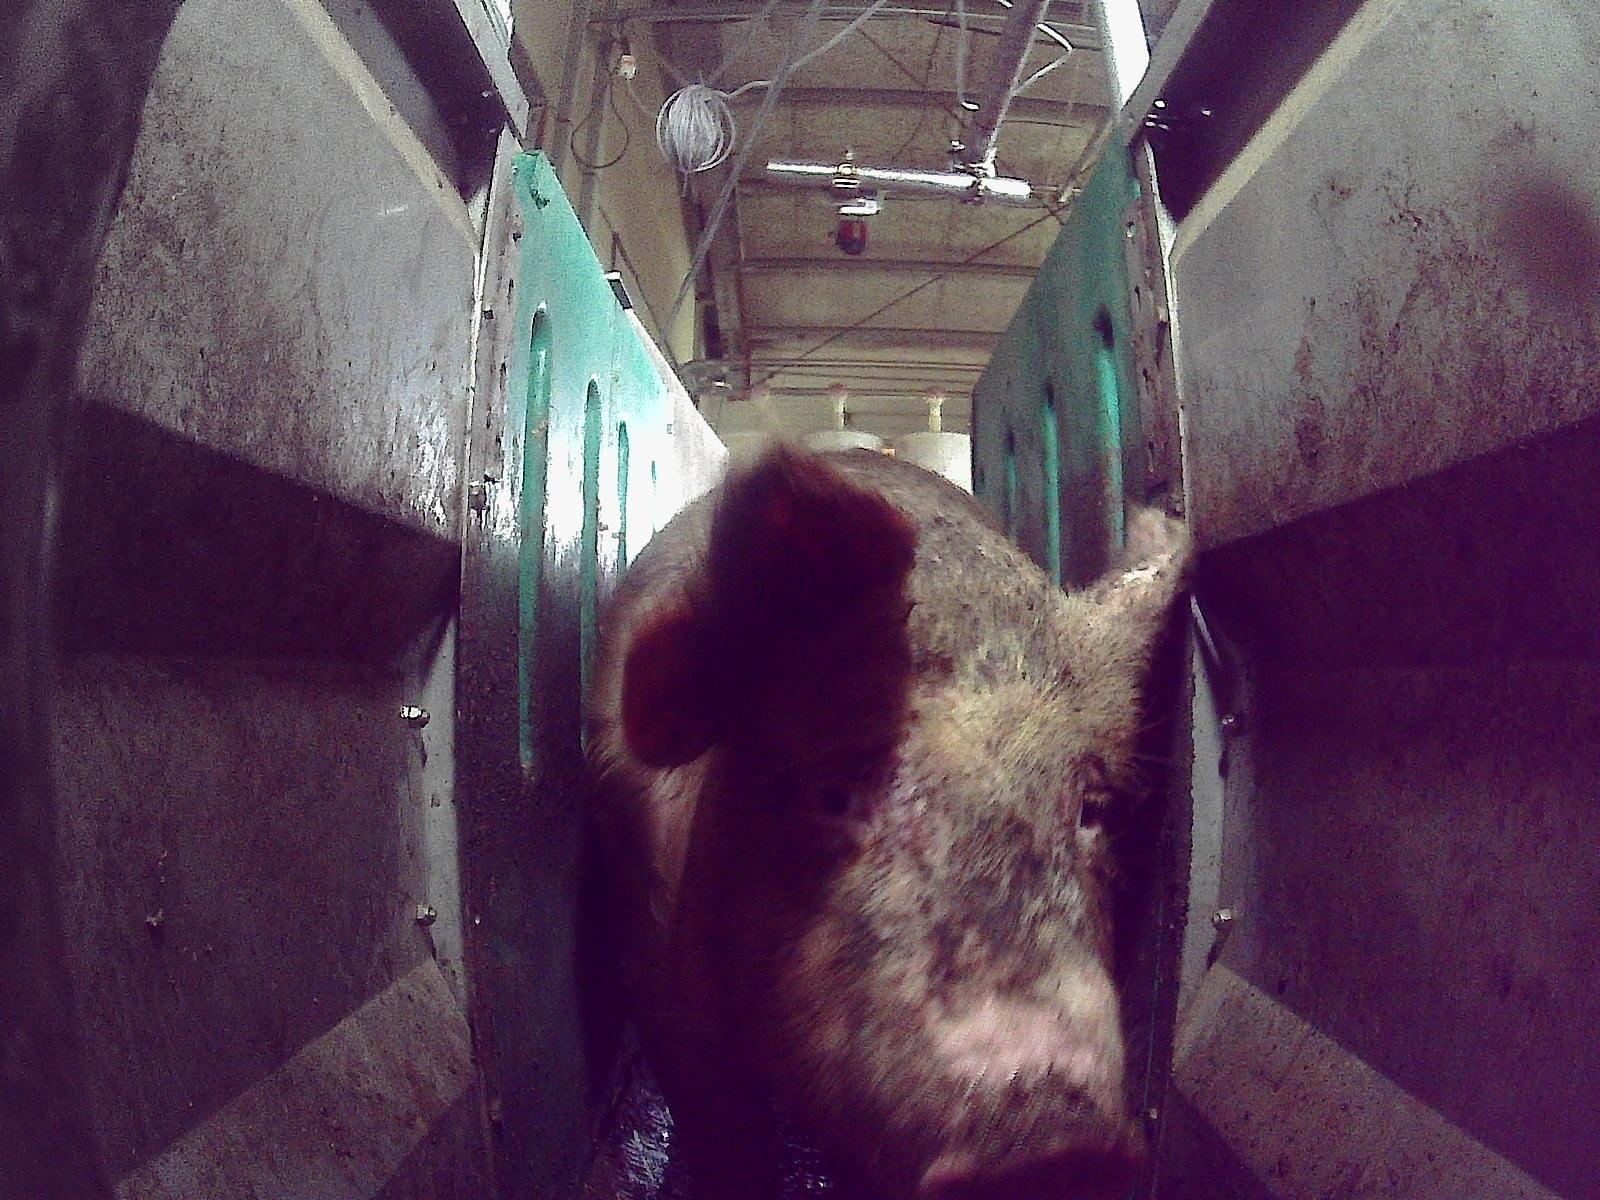Face: (733, 614, 1149, 1199)
